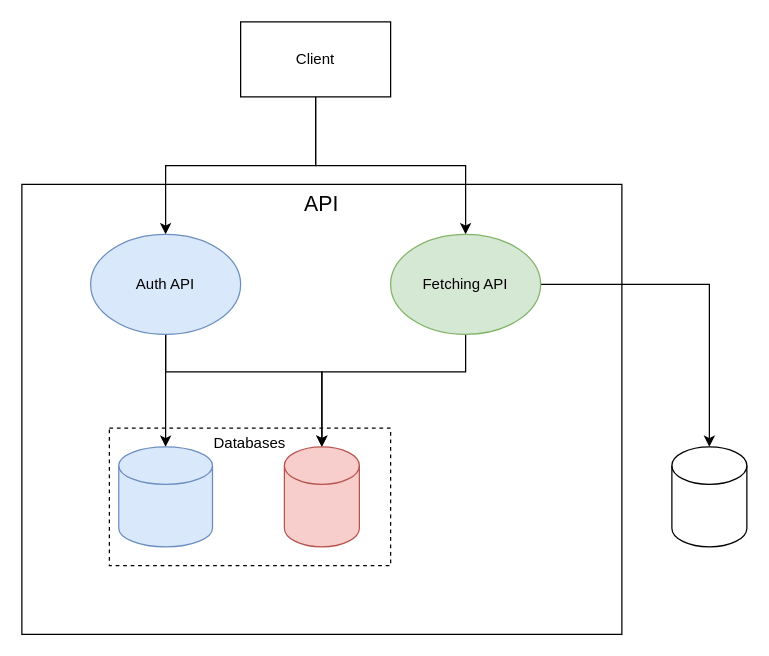
This 769x656 diagram has some shape labels left out. Here are the shapes that lost their labels. From the top down, the centre of each, then its label:
(x=165, y=496): PostgreSQL
(x=321, y=496): Redis
(x=709, y=496): eFishery Storage
